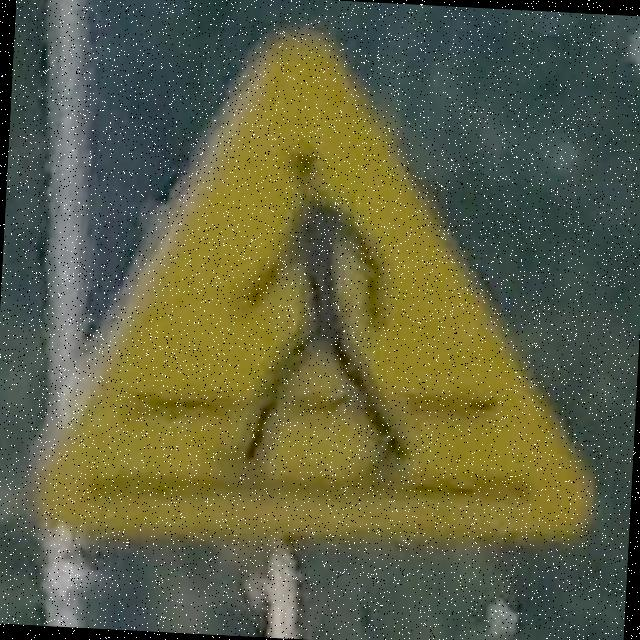Przejscie dla pieszych: (29, 12, 620, 560)
